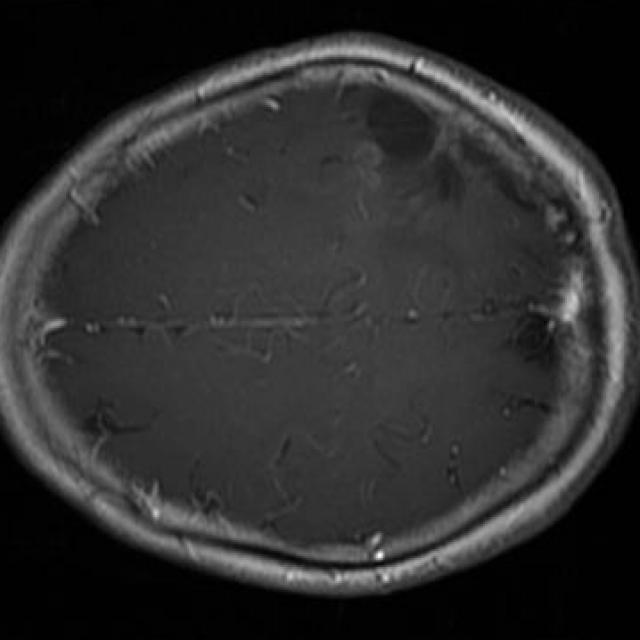glioma: (346, 87, 535, 207)
